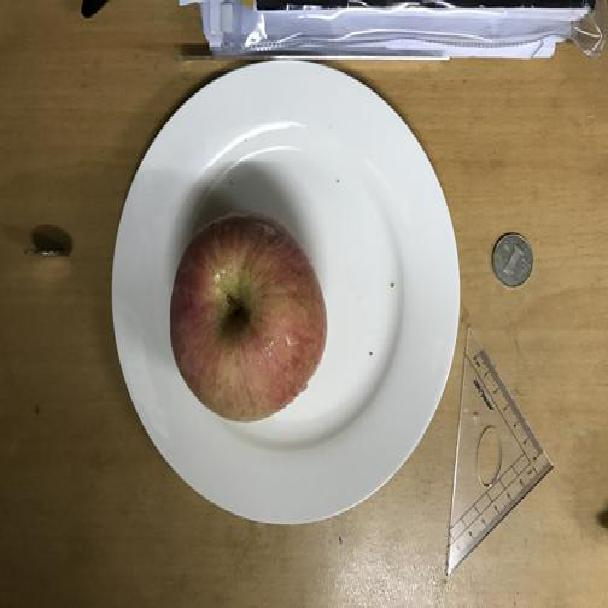apple: (167, 210, 331, 427)
